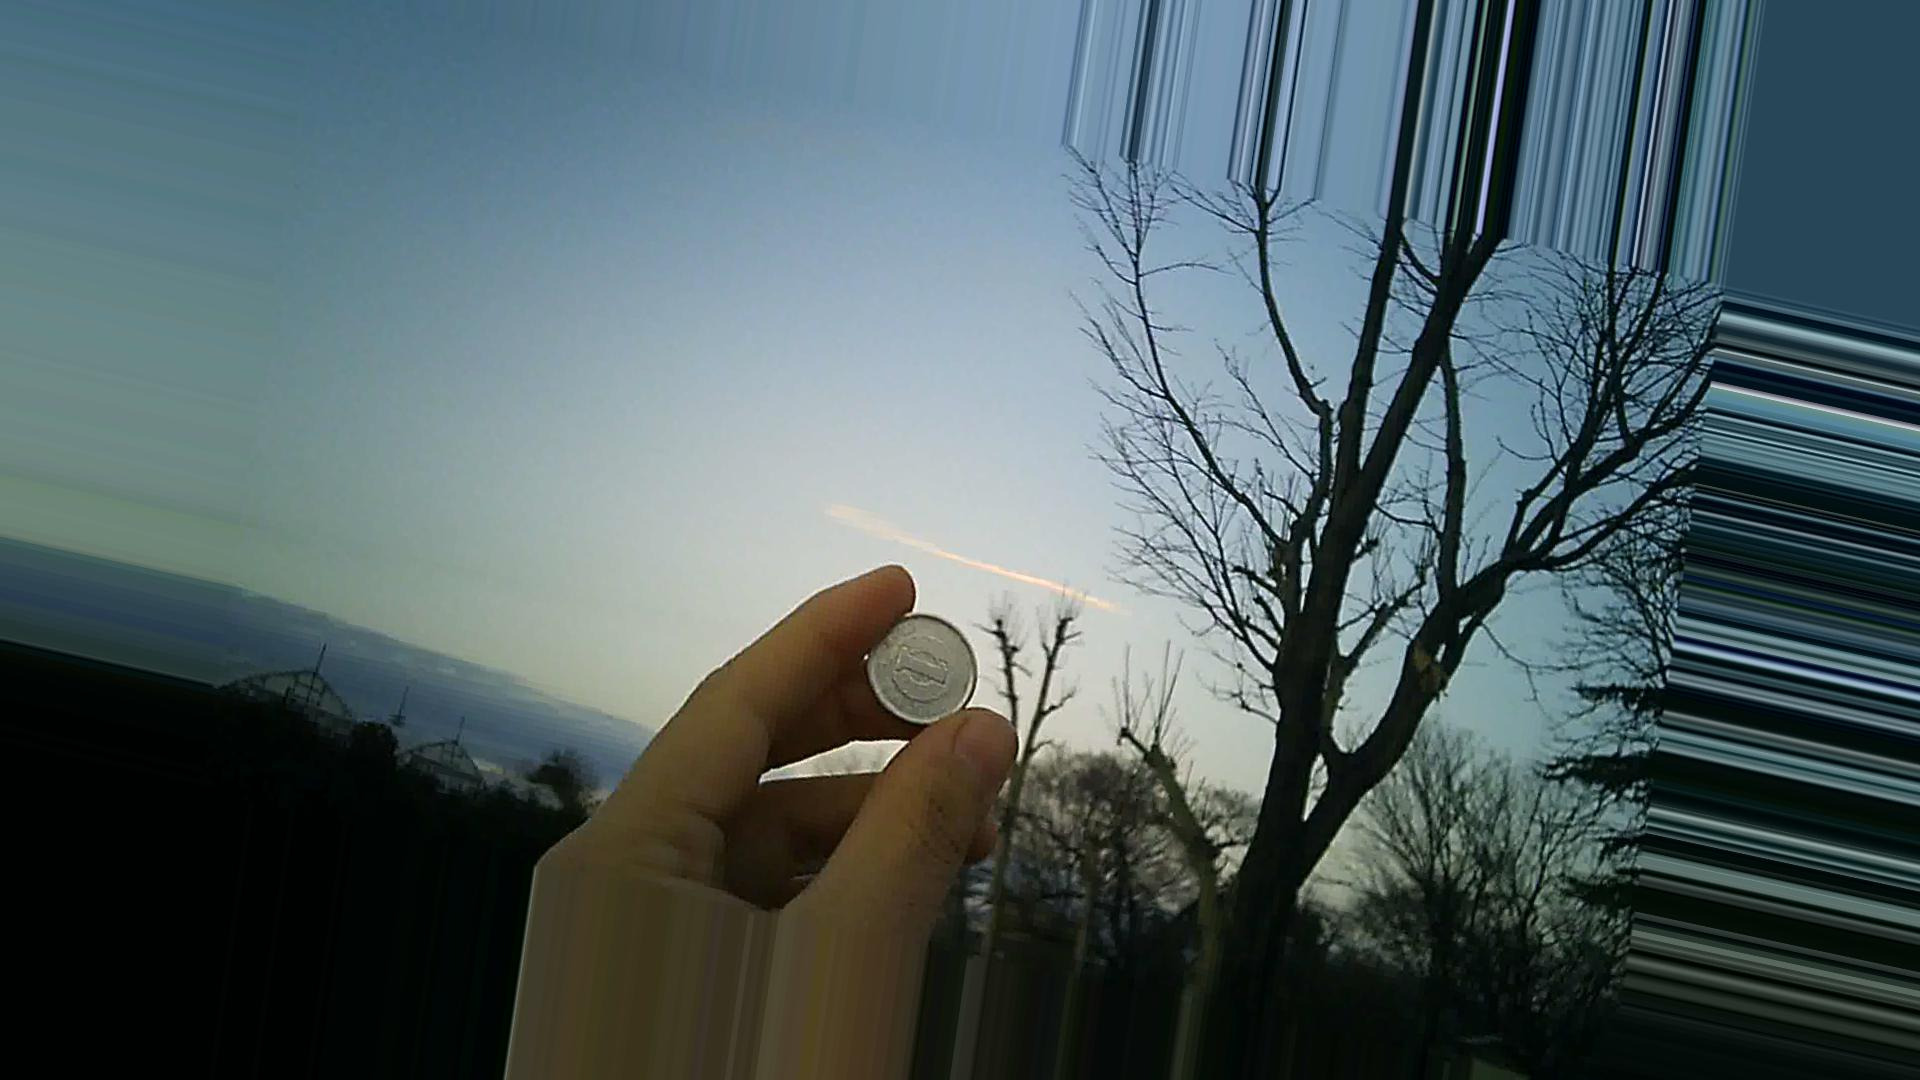1 Yen: (865, 607, 978, 736)
